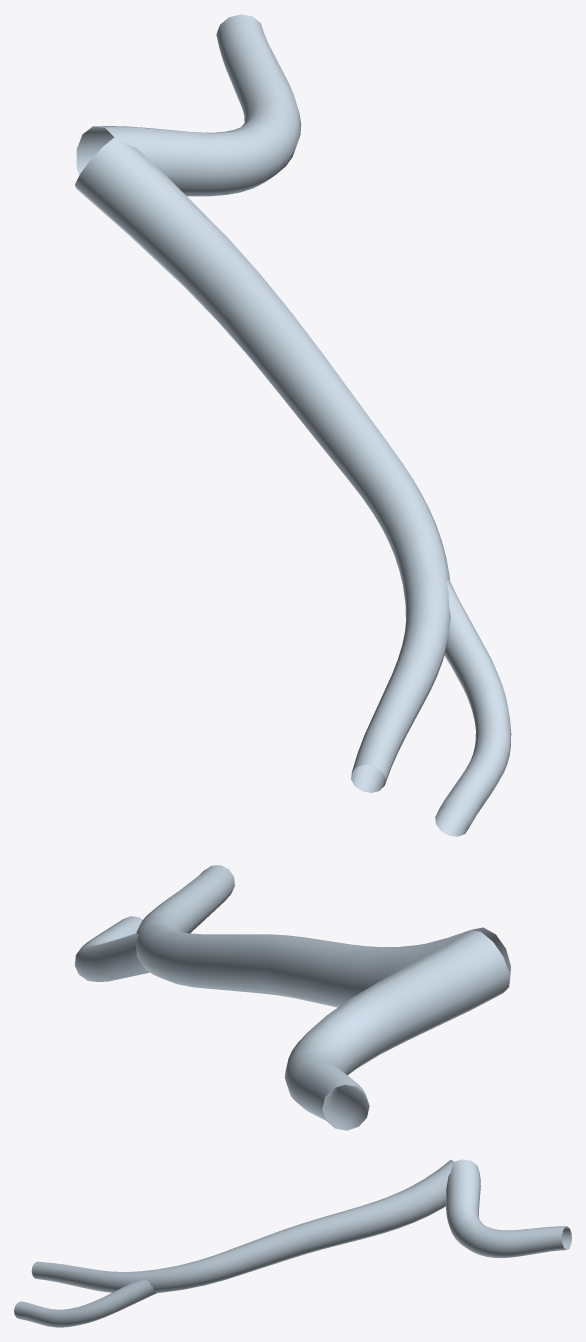
File: visceras-superior-lingular-segmental-bronchus-of-left-lung-biv.glb
The picture shows the model from 3 angles, top to bottom: view 1: azimuth 30°, elevation 25°; view 2: azimuth 210°, elevation 25°; view 3: azimuth 270°, elevation 25°; orthographic projection. The views are drawn at different scales.
Parts seen in each view (by area): view 1: Superior lingular segmental bronchus of left lung (BIV); view 2: Superior lingular segmental bronchus of left lung (BIV); view 3: Superior lingular segmental bronchus of left lung (BIV).
Part boxes in pixels (<box>): Superior lingular segmental bronchus of left lung (BIV): <box>75,14,511,836</box>; Superior lingular segmental bronchus of left lung (BIV): <box>75,865,510,1130</box>; Superior lingular segmental bronchus of left lung (BIV): <box>14,1159,571,1327</box>.
Size of the model in its own units: 0.0418 by 0.0336 by 0.0935.
